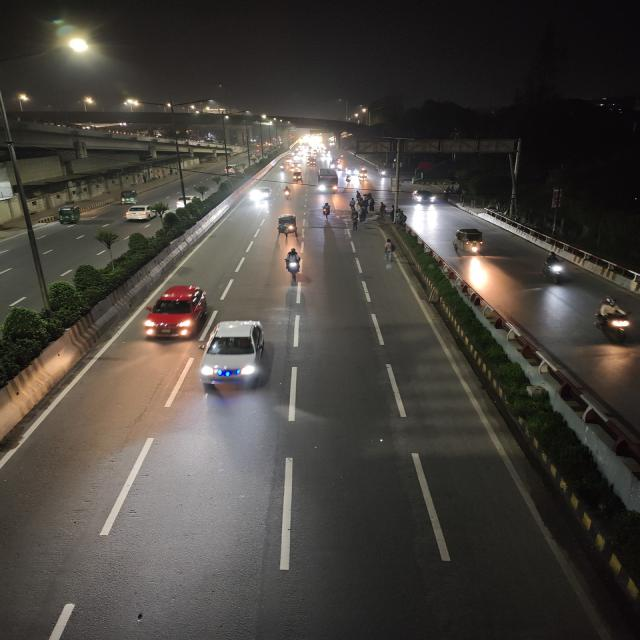bus: (316, 168, 340, 194)
car: (196, 318, 273, 394), (138, 282, 215, 344), (120, 201, 168, 224), (176, 188, 202, 208), (410, 188, 438, 206), (254, 184, 274, 200), (221, 163, 241, 175)
cng: (450, 226, 489, 257), (274, 213, 302, 239), (54, 202, 84, 226), (116, 188, 138, 204), (292, 170, 305, 184)
motorcycle: (590, 296, 636, 344), (538, 251, 572, 287), (280, 246, 305, 284), (318, 201, 335, 219), (280, 184, 294, 201), (358, 167, 370, 180), (344, 173, 354, 186)
pedestrian: (382, 239, 395, 260), (349, 212, 358, 230), (367, 198, 377, 213), (348, 197, 358, 211), (378, 200, 386, 216), (355, 190, 362, 200)
